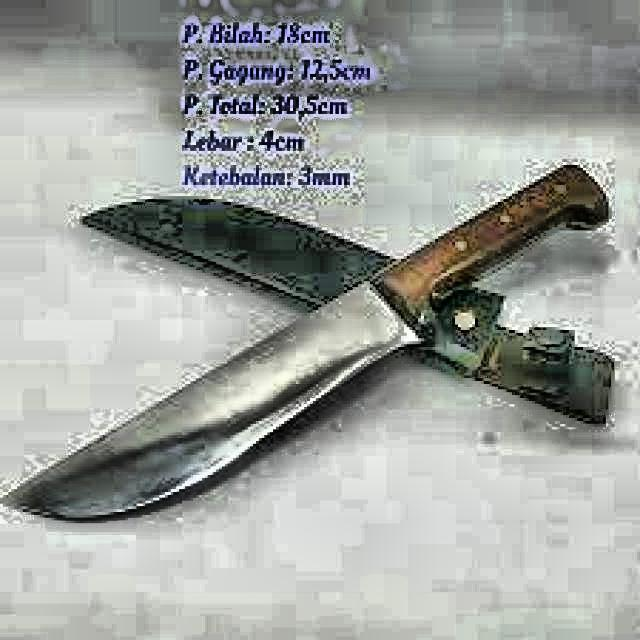knife: (0, 168, 611, 523)
